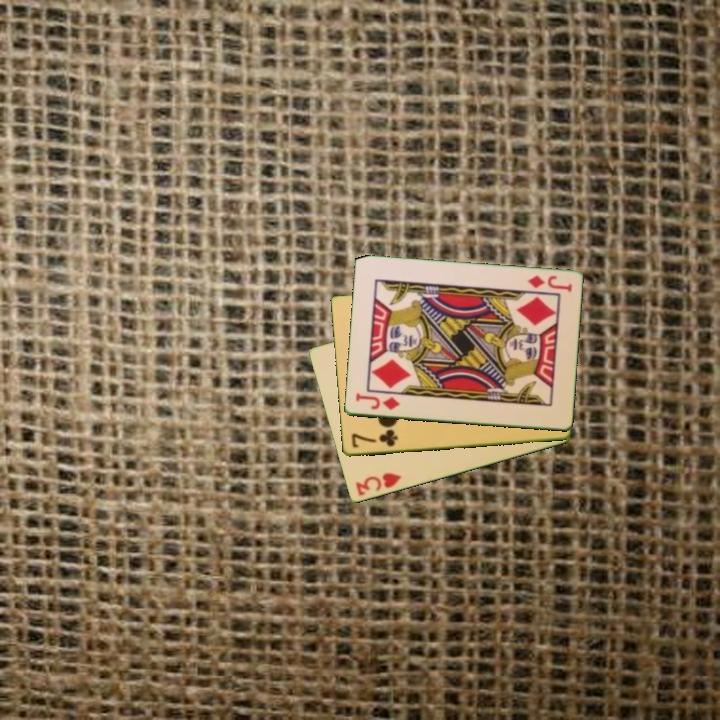3h: (352, 470, 404, 499)
7c: (348, 427, 400, 451)
Jd: (352, 390, 402, 413), (524, 272, 574, 295)
